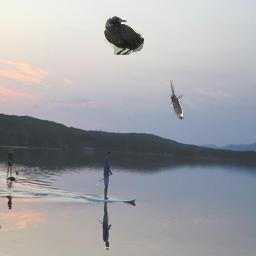Crow: (104, 16, 144, 55)
Cuckoo: (170, 80, 184, 120)
